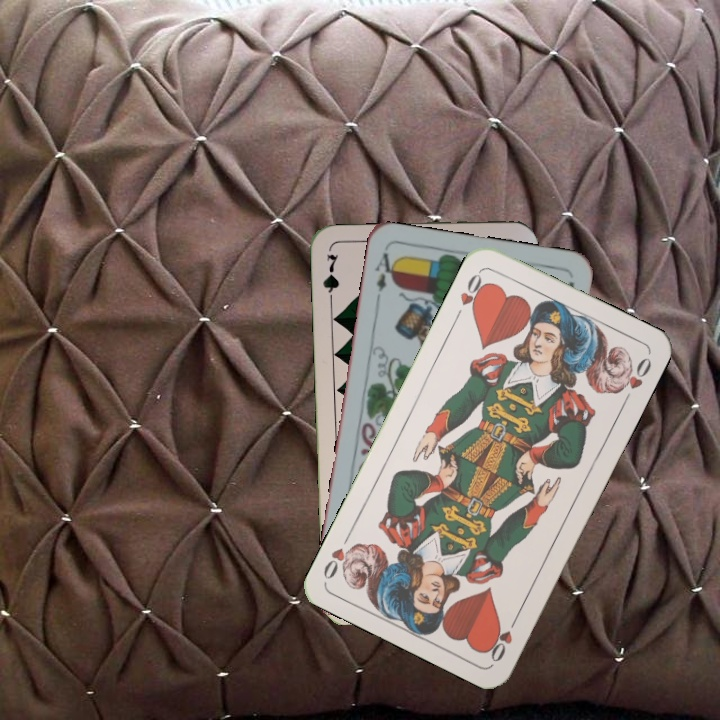EA: (371, 248, 399, 305)
G7: (319, 250, 342, 309)
HO: (451, 267, 490, 322), (484, 610, 522, 665)
